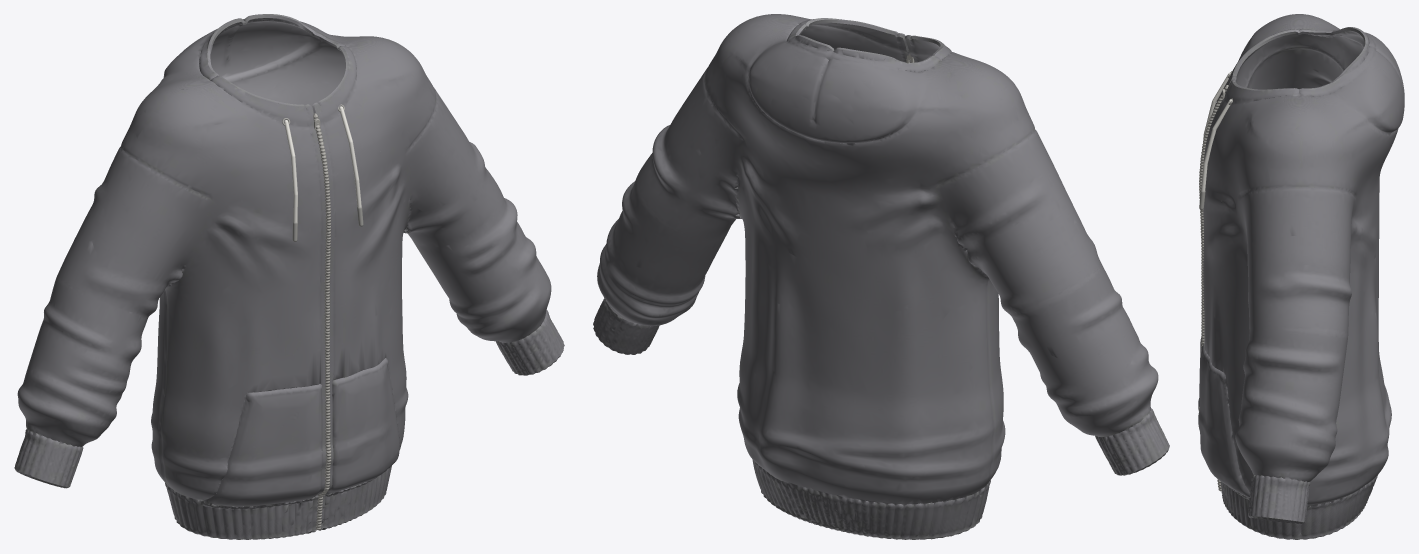
File: 04_sudadera_cremallera_pbr.glb
The picture shows the model from 3 angles, left to right: view 1: azimuth 30°, elevation 25°; view 2: azimuth 150°, elevation 25°; view 3: azimuth 270°, elevation 25°; orthographic projection. The views are drawn at different scales.
Visible parts, largest first — view 1: Camiseta PBR, Cremallera, Cordones; view 2: Camiseta PBR; view 3: Camiseta PBR, Cremallera, Cordones.
Part boxes in pixels (x1,y1,x2,y2): Camiseta PBR: (14,14,564,539); Cremallera: (313,113,331,530); Cordones: (284,106,361,222); Camiseta PBR: (593,14,1169,539); Camiseta PBR: (1198,14,1404,539); Cremallera: (1198,85,1228,491); Cordones: (1201,72,1231,191).
Bounding box in the file's own units: 0.982 × 0.7993 × 0.3311.
Materials: 4 (1 with a texture image).
